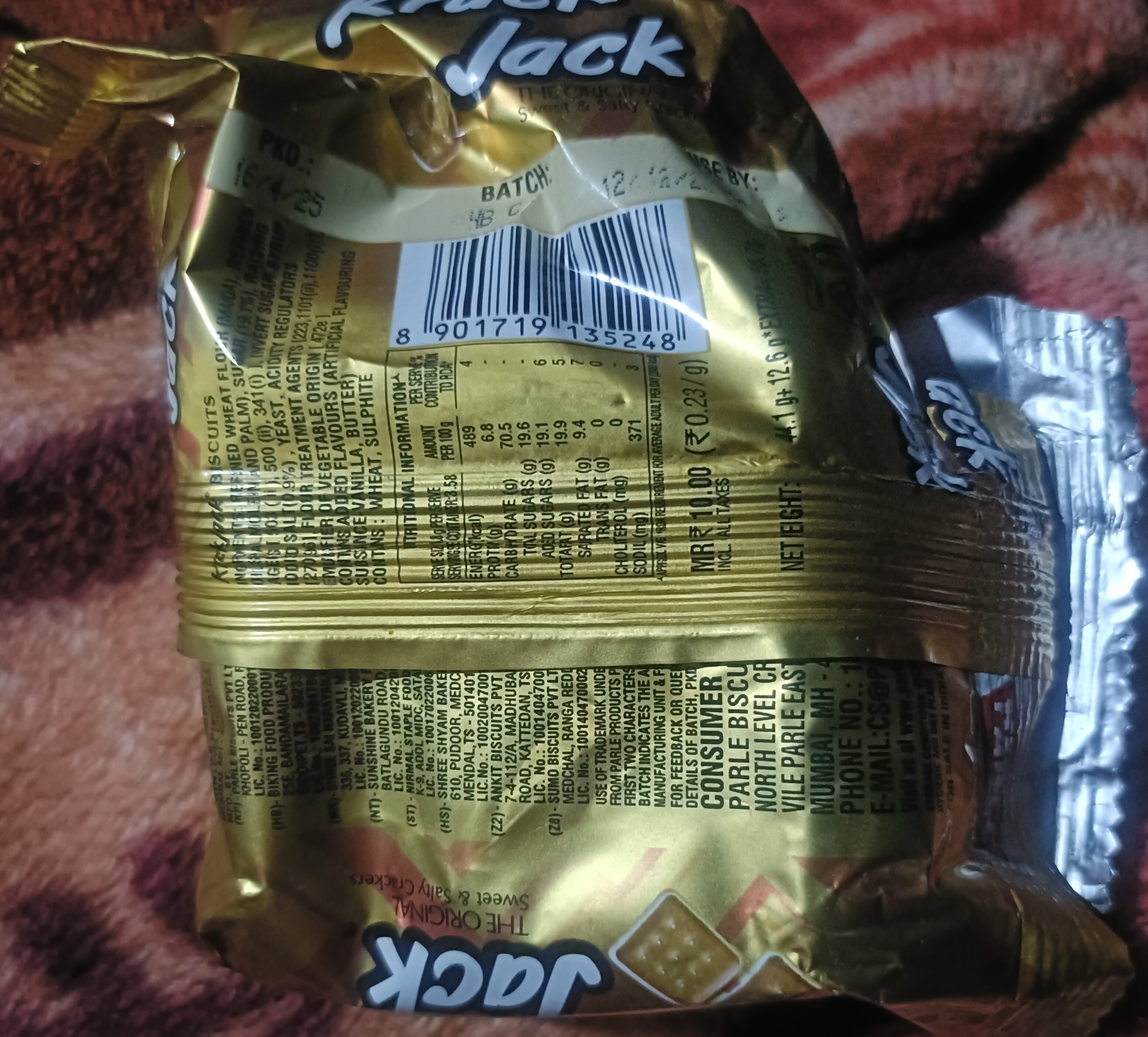Krackjack: (103, 93, 1045, 944)
